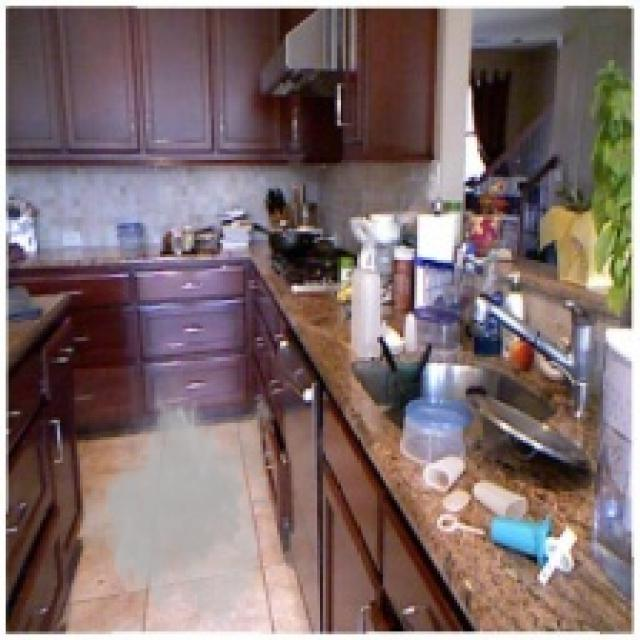smoke: (74, 368, 283, 632)
